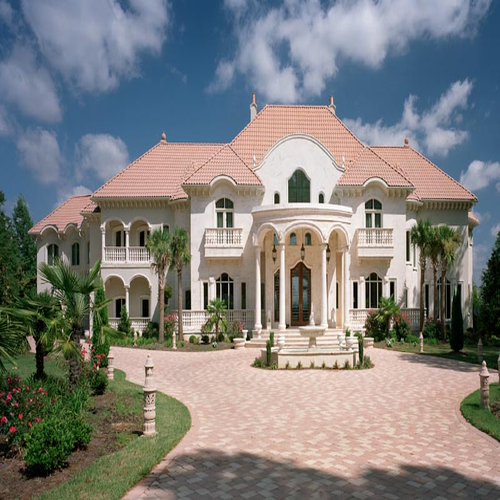Building House: (38, 100, 480, 368)
